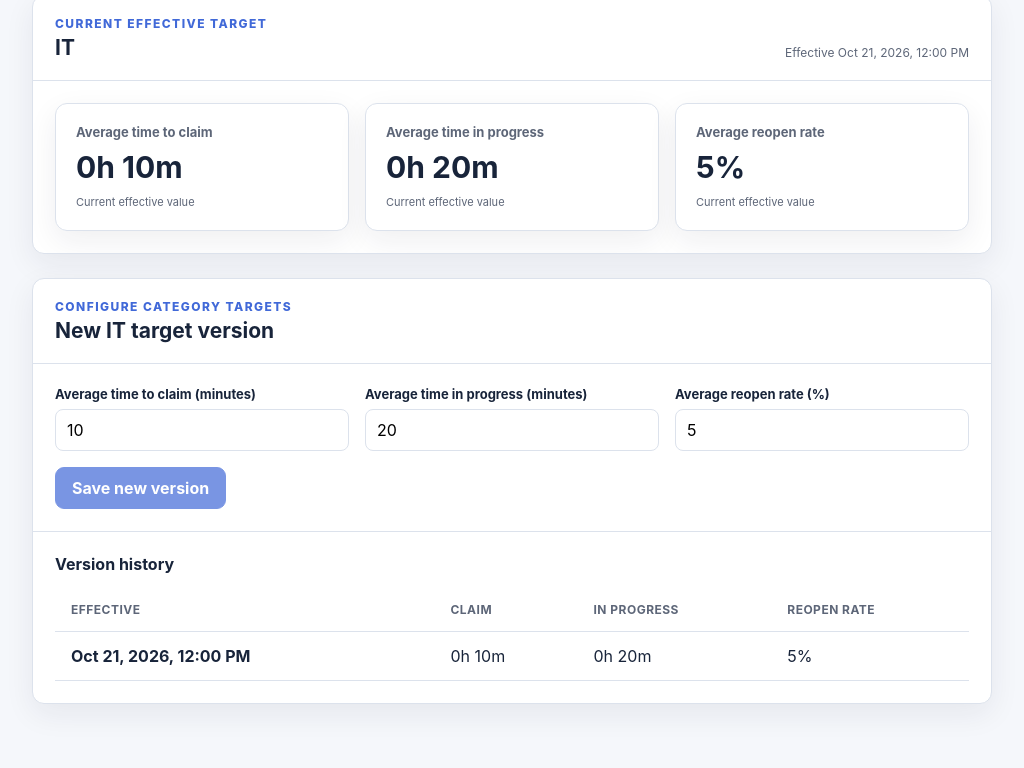
Test: AdministratorSloConfiguration › keeps entered values and reports a stale-version conflict
The width and height of the screenshot is (1024, 768).
(page scrolled)
Replace the text in the number field labelled "Average time to claim (minutes)" with "15". click: (202, 430)
box: [55,409,349,451]
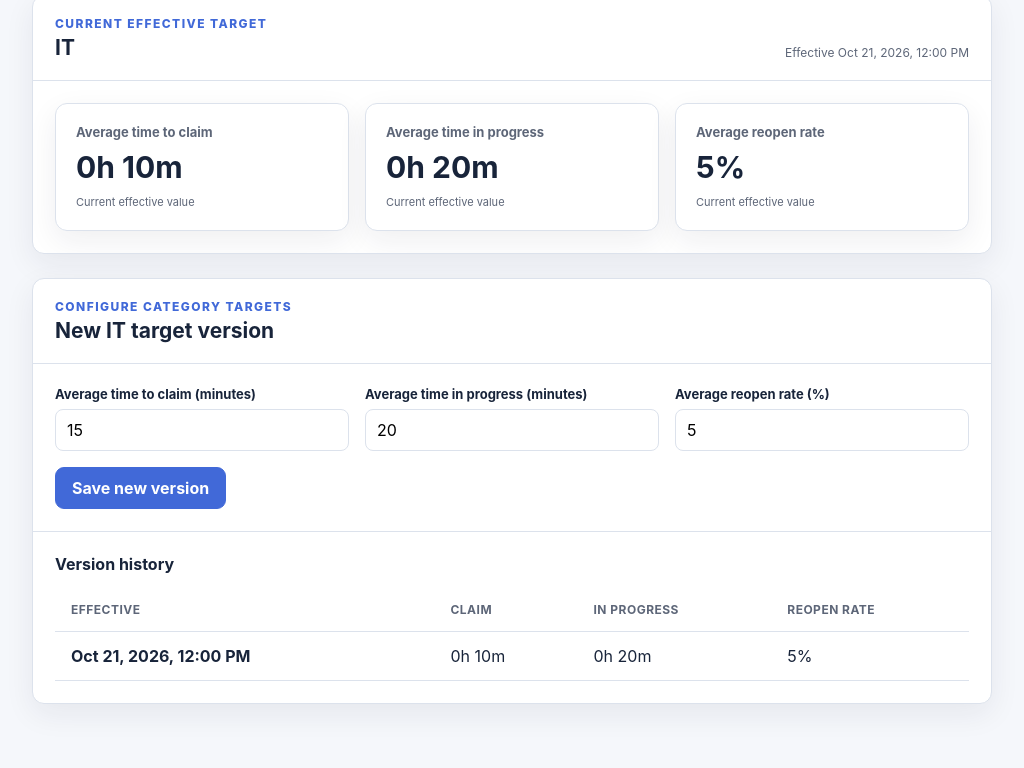
Click the button "Save new version". click: (141, 488)
box: [55,467,226,509]
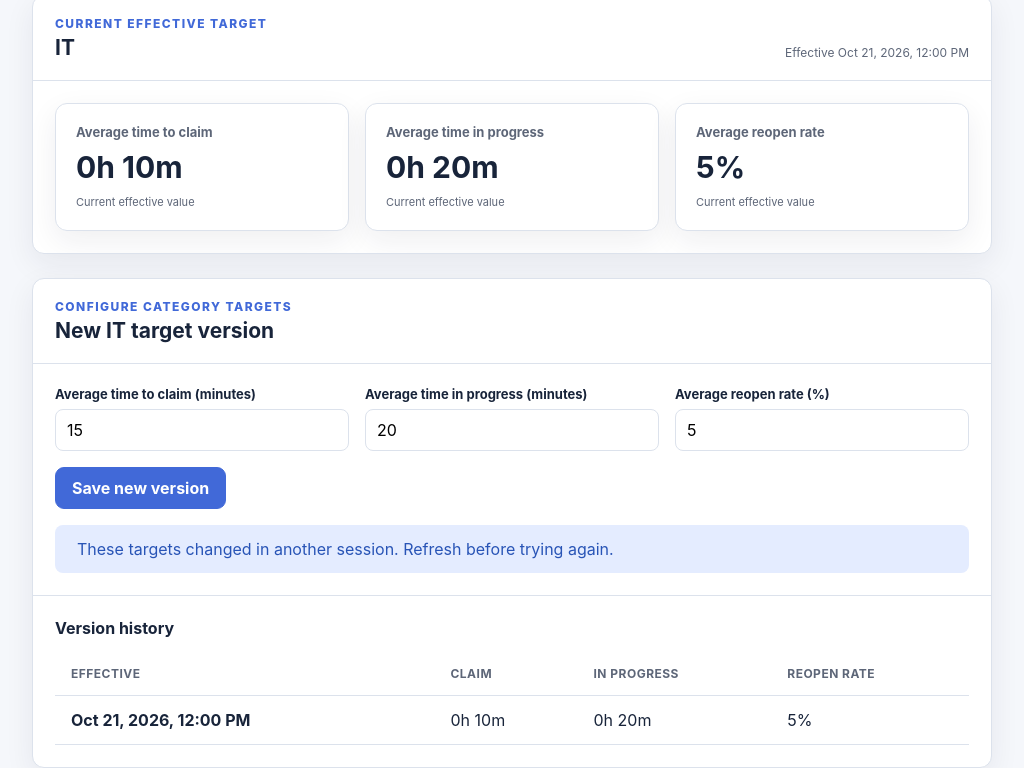
expect the message reads "These targets changed in another session. Refresh before trying again.": met, box [77,539,614,559]
